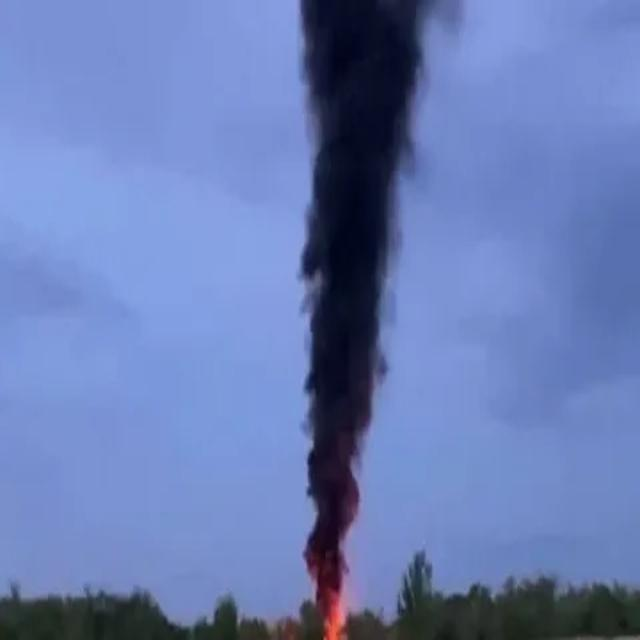Smoke: (290, 0, 423, 640)
